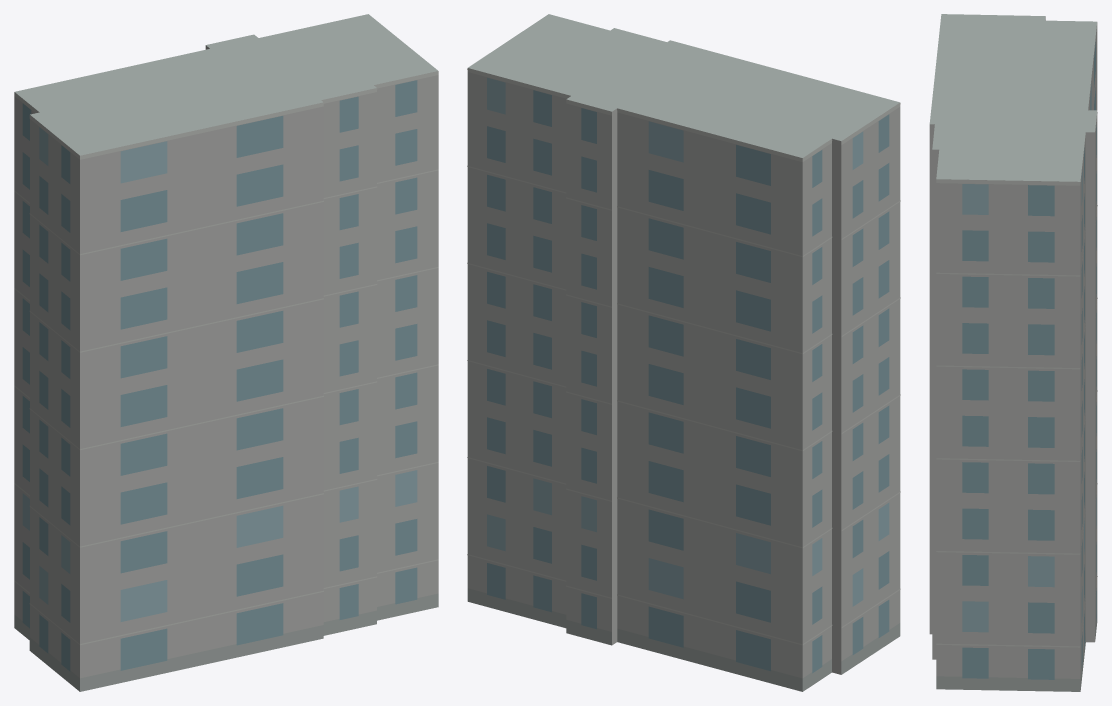
File: survey-upis-32661894.glb
3 views of the same model, side by side, from view 1: azimuth 30°, elevation 25°; view 2: azimuth 150°, elevation 25°; view 3: azimuth 270°, elevation 25° (orthographic). The views are drawn at different scales.
Visible parts, largest first — view 1: survey-upis-32661894.tmp; view 2: survey-upis-32661894.tmp; view 3: survey-upis-32661894.tmp.
Part boxes in pixels (left/top/right/bottom): survey-upis-32661894.tmp: left=14, top=14, right=438, bottom=691; survey-upis-32661894.tmp: left=467, top=14, right=900, bottom=691; survey-upis-32661894.tmp: left=929, top=14, right=1097, bottom=691.
Bounding box in the file's own units: 22.54 × 31.9 × 9.54.
